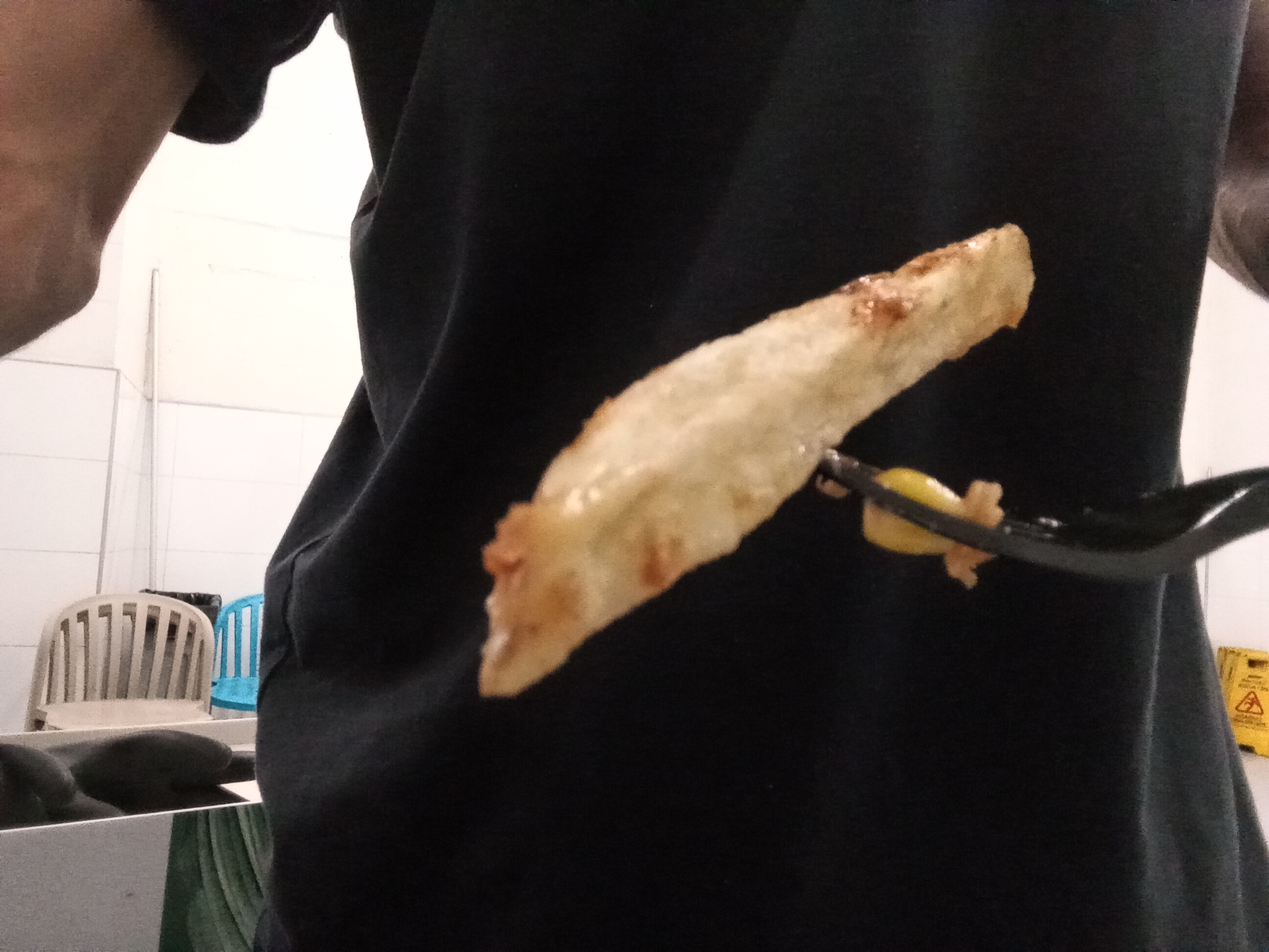Organico: (481, 224, 1031, 700)
